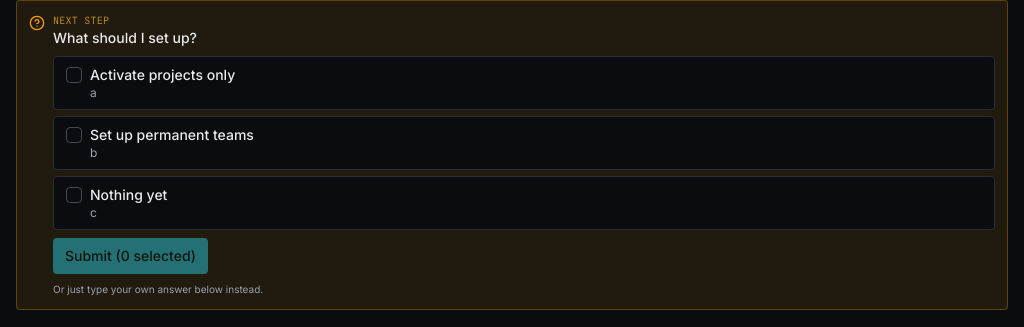
Test case: QuestionCard — multi-select › toggling an option twice deselects it
What coordinates should you click on to do the following:
click the text "Activate projects only"
I would click on:
 (163, 74)
Its box is [90,66,235,83].
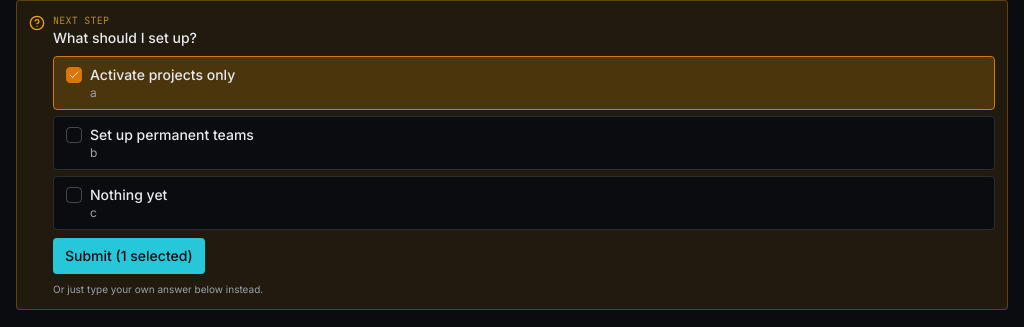
What coordinates should you click on to do the following:
click the text "Activate projects only"
I would click on:
 (163, 74)
Its box is [90,66,235,83].
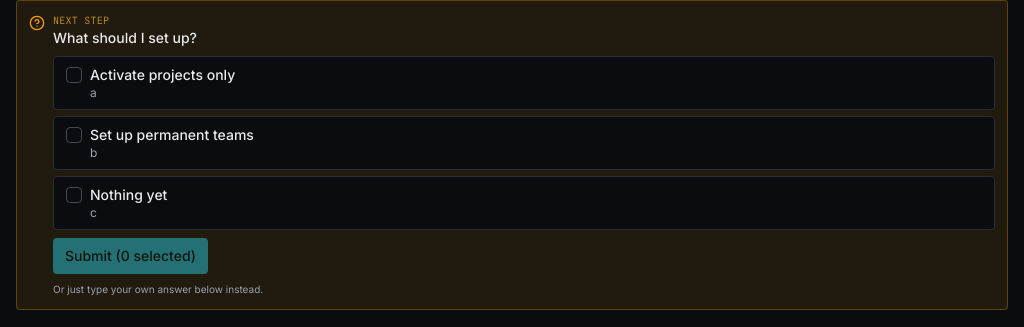
Now the button "Submit (0 selected)" is disabled, box [53,238,208,274]
